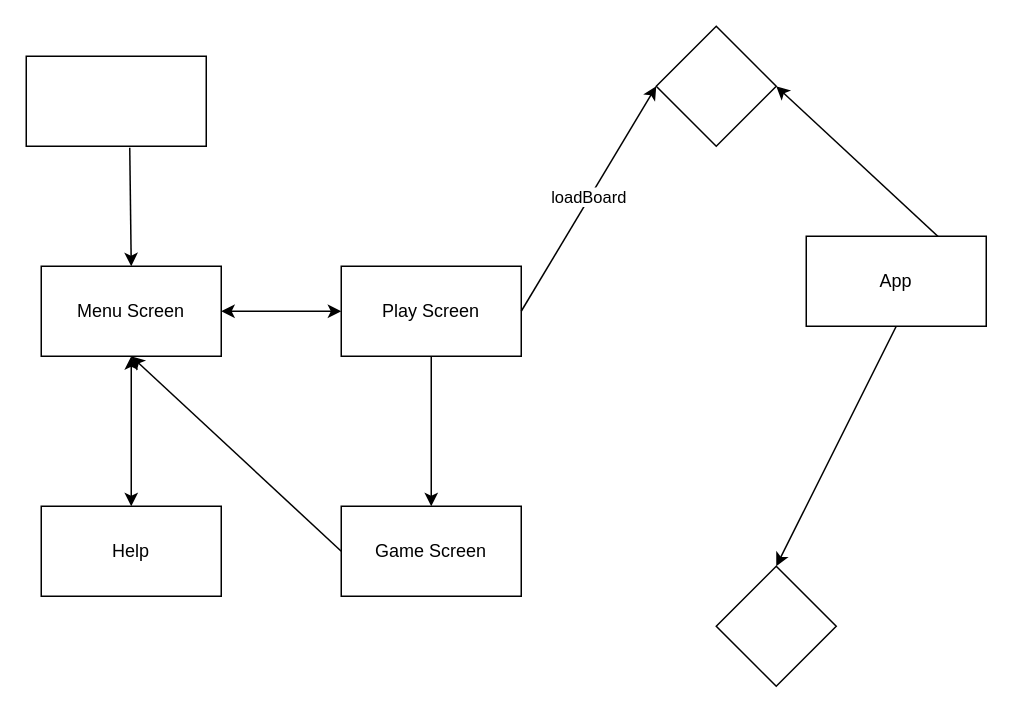
Image size: 1025x713. Some labels were removed from this diagram. The centre of each missing label's shape, as x and y in pixels:
Board: pixel 775 625
BoardLoader: pixel 715 85
Slash Screen: pixel 115 100
